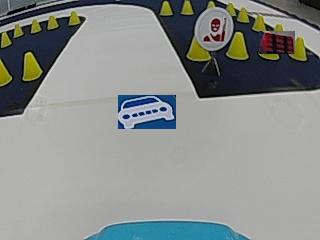evil: (194, 8, 232, 50)
